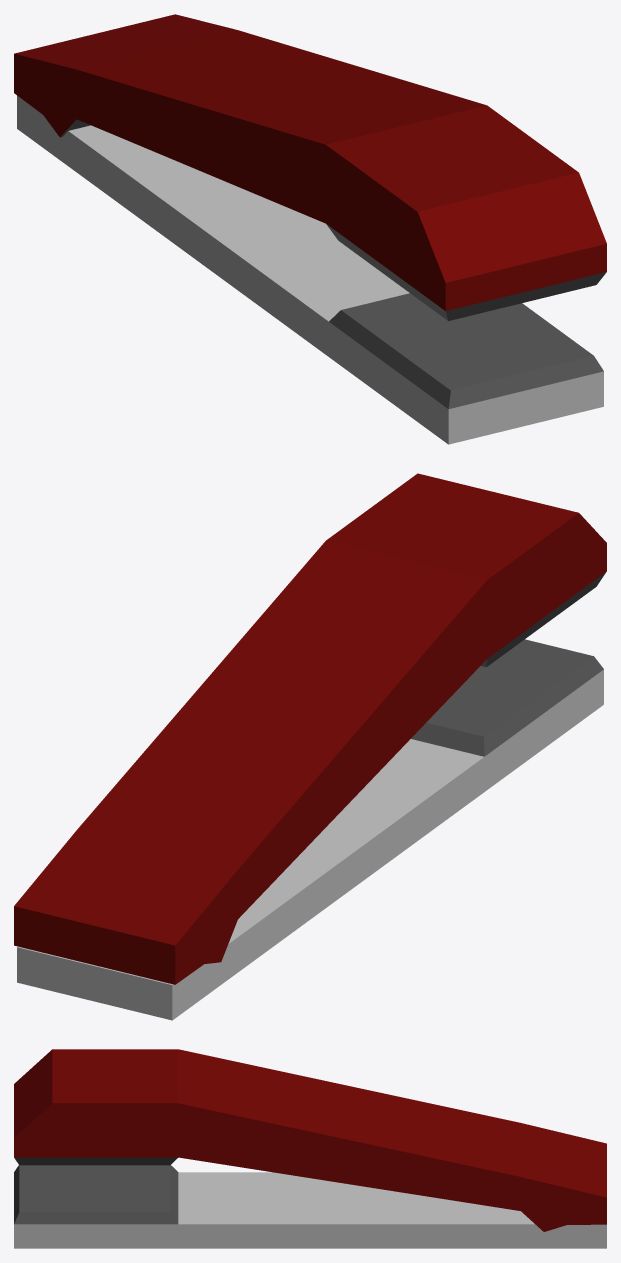
The model's file is Klipser_Rød.fbx.
3 renders of one model, top to bottom at view 1: azimuth 30°, elevation 25°; view 2: azimuth 150°, elevation 25°; view 3: azimuth 270°, elevation 25°, orthographic. The views are drawn at different scales.
Visible parts, largest first — view 1: Cube; view 2: Cube; view 3: Cube.
Boxes of the visible parts, x1,y1,x2,y2 form: Cube: [14, 14, 606, 444]; Cube: [14, 473, 606, 1020]; Cube: [14, 1049, 606, 1248].
Size of the model in its own units: 10.71 by 13.5 by 49.61.
